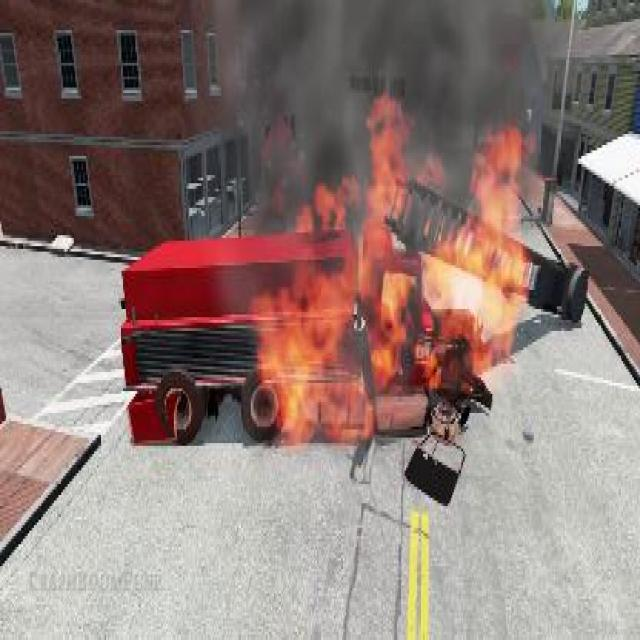accident: (111, 146, 578, 444)
